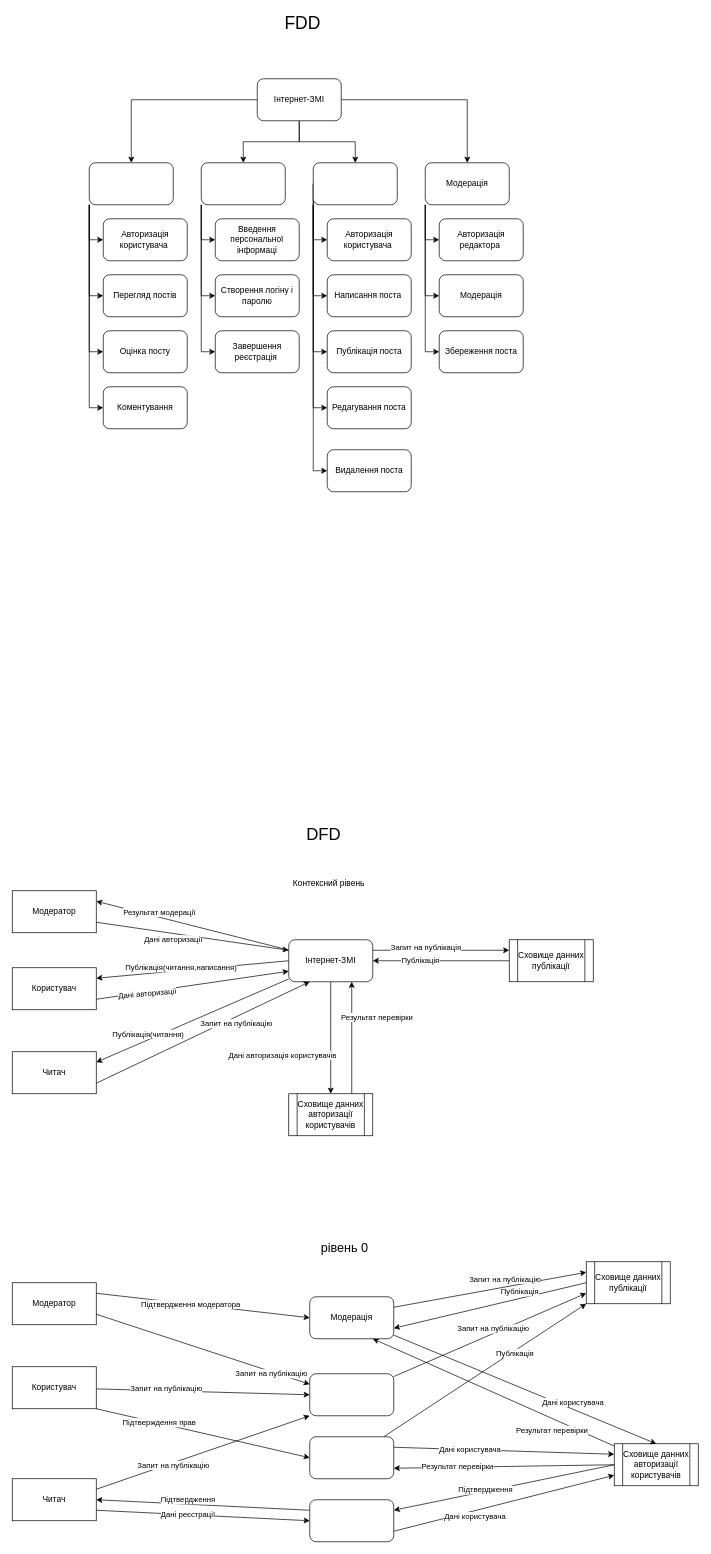
Some shapes in this 711 by 1554 pixel diagram are drawn without their labels. The shapes that lost their labels are listed below. From the top down, each one's centre as x and y in pixels, then its label:
At point 131,183: "Перегляд постів(Соціальна взаємодія)".
At point 243,183: "Реєстрація на сайті".
At point 355,183: "Взаємодія з публікацією".
At point 351,1394: "Перегляд публікації".
At point 351,1457: "Взаємодія з публікаціями".
At point 351,1520: "Реєстрація".
